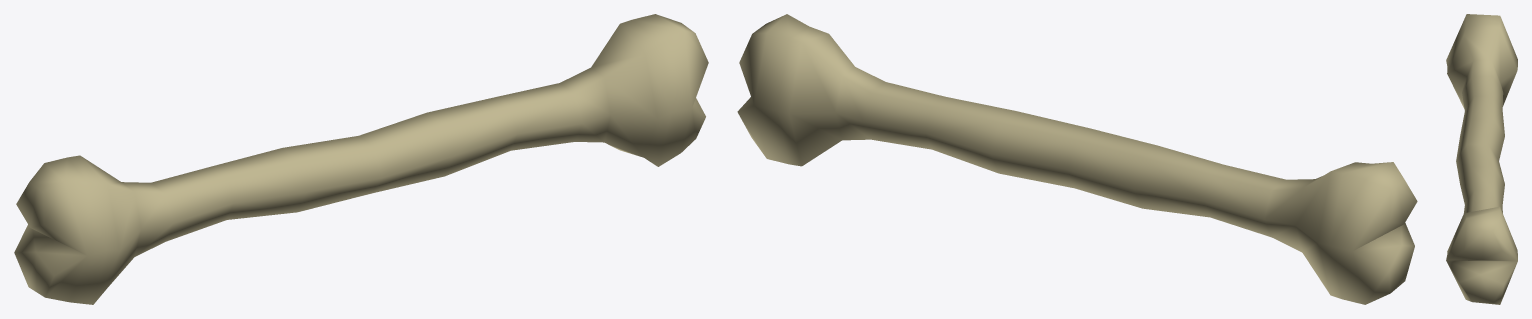
The model's file is giantBone.glb.
3 renders of one model, left to right at view 1: azimuth 30°, elevation 25°; view 2: azimuth 150°, elevation 25°; view 3: azimuth 270°, elevation 25°, orthographic. The views are drawn at different scales.
Parts seen in each view (by area): view 1: LargeBone; view 2: LargeBone; view 3: LargeBone.
Part boxes in pixels (<box>): LargeBone: <box>14,14,708,304</box>; LargeBone: <box>737,14,1417,304</box>; LargeBone: <box>1446,14,1517,304</box>.
Size of the model in its own units: 2.12 by 0.3921 by 0.2919.
